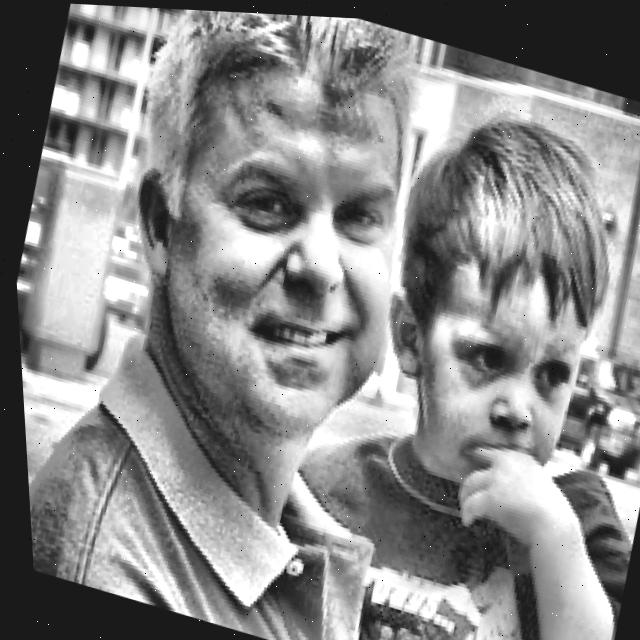light_vehicle: (6, 137, 150, 384), (536, 325, 640, 476)
